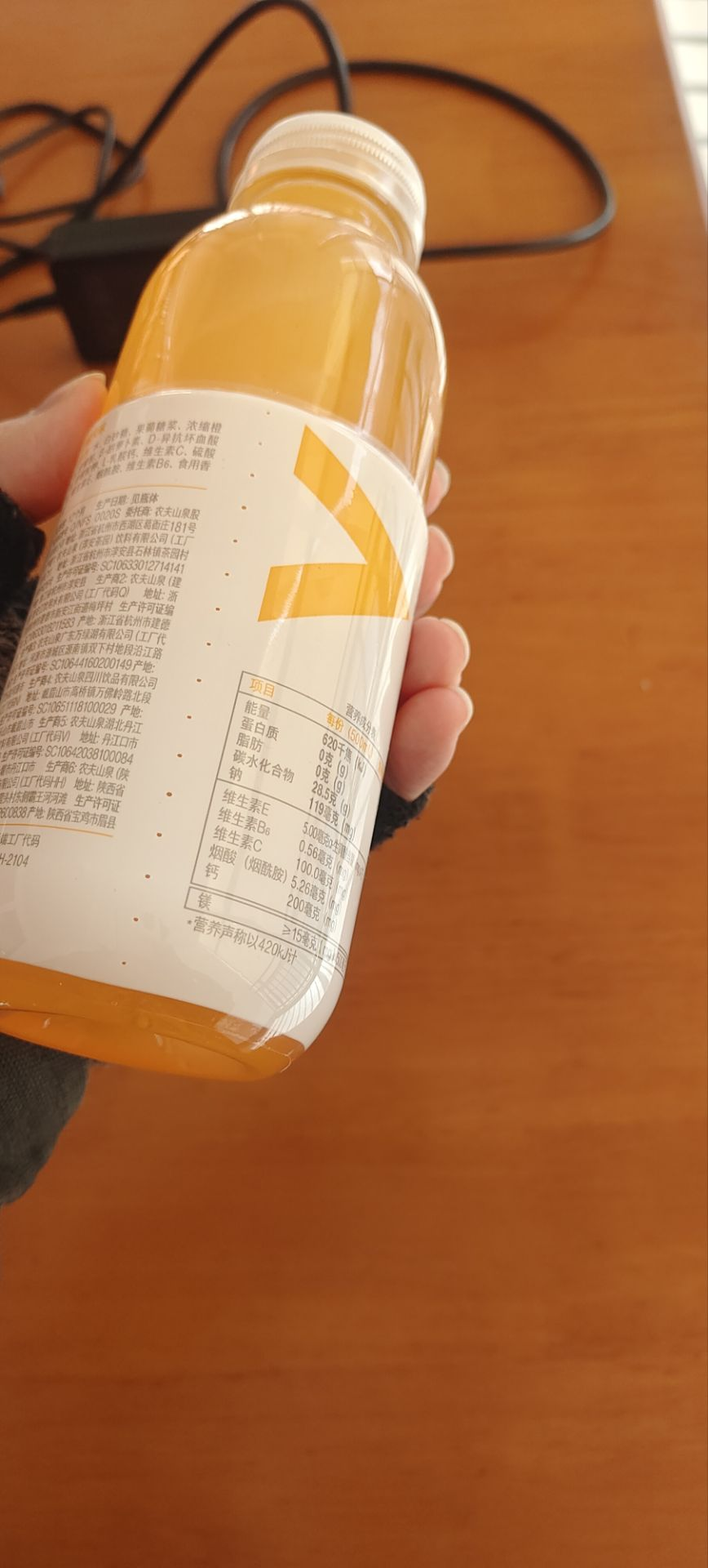redbull: (89, 108, 415, 1066)
